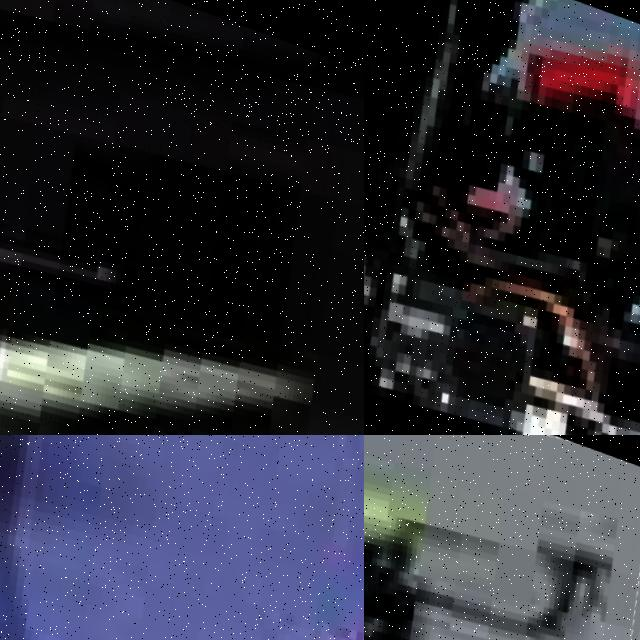drone: (0, 0, 364, 435), (364, 0, 640, 435), (0, 435, 364, 640), (364, 435, 640, 640)
